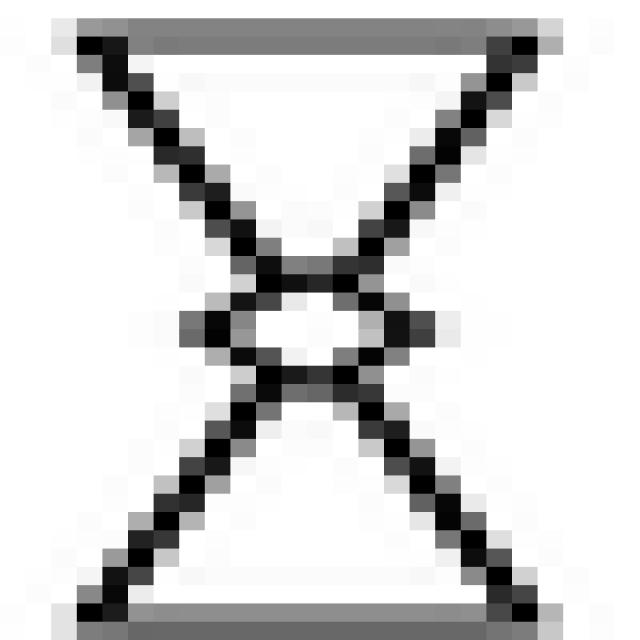Plug Valve: (92, 45, 540, 626)
